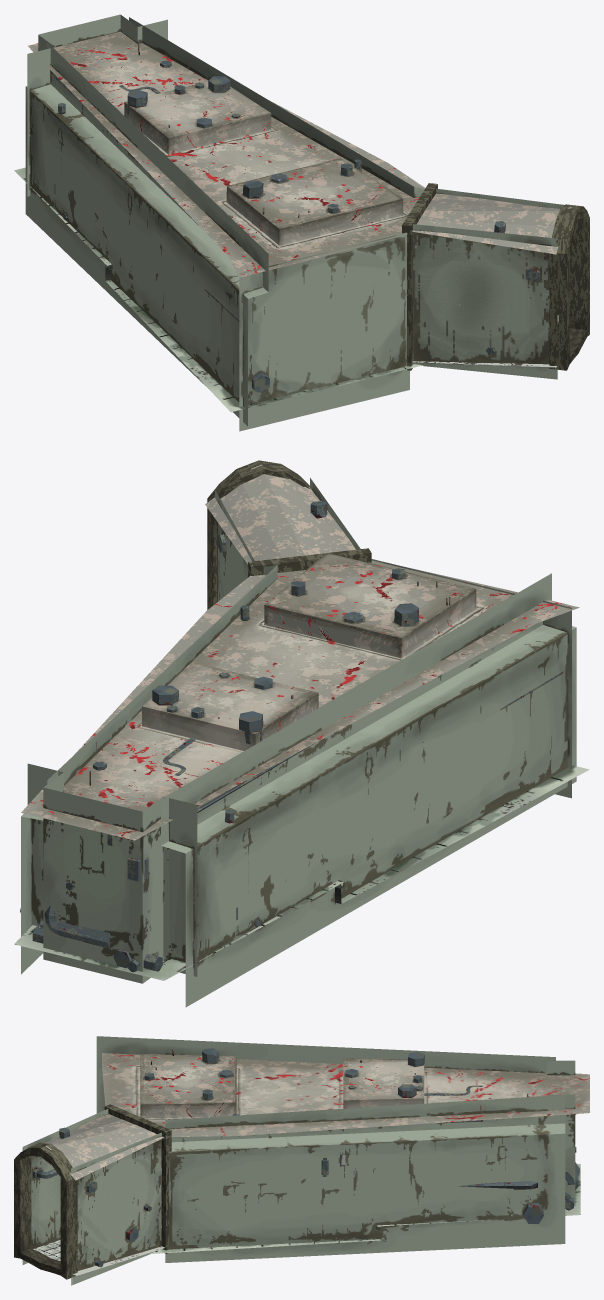
File: HHBATH_NORMALFINAL.fbx
The picture shows the model from 3 angles, top to bottom: view 1: azimuth 30°, elevation 25°; view 2: azimuth 150°, elevation 25°; view 3: azimuth 270°, elevation 25°; orthographic projection. The views are drawn at different scales.
Visible parts, largest first — view 1: LeftWall, Ceiling, Hallway, Frontwall, RightWall, BackWall, Floor, LargePipes, SmallPipes; view 2: LeftWall, Ceiling, BackWall, Hallway, RightWall, LargePipes, Floor, SmallPipes, Frontwall; view 3: RightWall, Ceiling, Hallway, LeftWall, LargePipes, BackWall, SmallPipes, Floor.
Part boxes in pixels (x1,y1,x2,y2): LeftWall: [25, 42, 268, 426]; Ceiling: [27, 31, 425, 277]; Hallway: [402, 183, 589, 379]; Frontwall: [239, 232, 409, 431]; RightWall: [129, 17, 424, 197]; BackWall: [27, 14, 167, 196]; Floor: [14, 167, 422, 412]; LargePipes: [54, 76, 505, 392]; SmallPipes: [63, 60, 539, 355]; LeftWall: [161, 573, 576, 1007]; Ceiling: [21, 552, 579, 840]; BackWall: [27, 763, 197, 983]; Hallway: [205, 460, 371, 609]; RightWall: [21, 564, 277, 974]; LargePipes: [20, 501, 418, 972]; Floor: [14, 765, 589, 980]; SmallPipes: [32, 534, 563, 971]; Frontwall: [371, 559, 571, 798]; RightWall: [165, 1094, 565, 1262]; Ceiling: [102, 1053, 589, 1136]; Hallway: [14, 1104, 171, 1285]; LeftWall: [96, 1036, 555, 1113]; LargePipes: [59, 1048, 579, 1241]; BackWall: [546, 1060, 575, 1206]; SmallPipes: [33, 1072, 576, 1267]; Floor: [149, 1163, 580, 1253].
Size of the model in its own units: 41.06 by 21.42 by 72.08.
13 materials, 13 textured.
